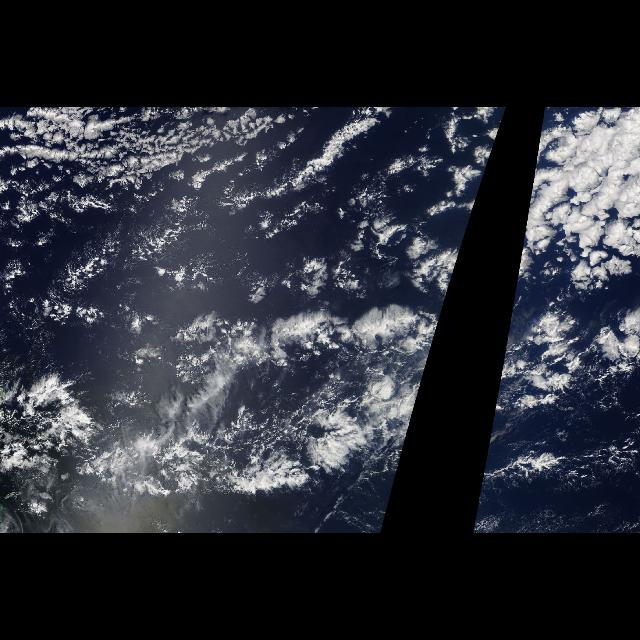Fish: (21, 310, 443, 518)
Flower: (96, 300, 444, 492), (512, 108, 640, 298), (412, 108, 510, 298)
Sugar: (1, 178, 328, 302)
